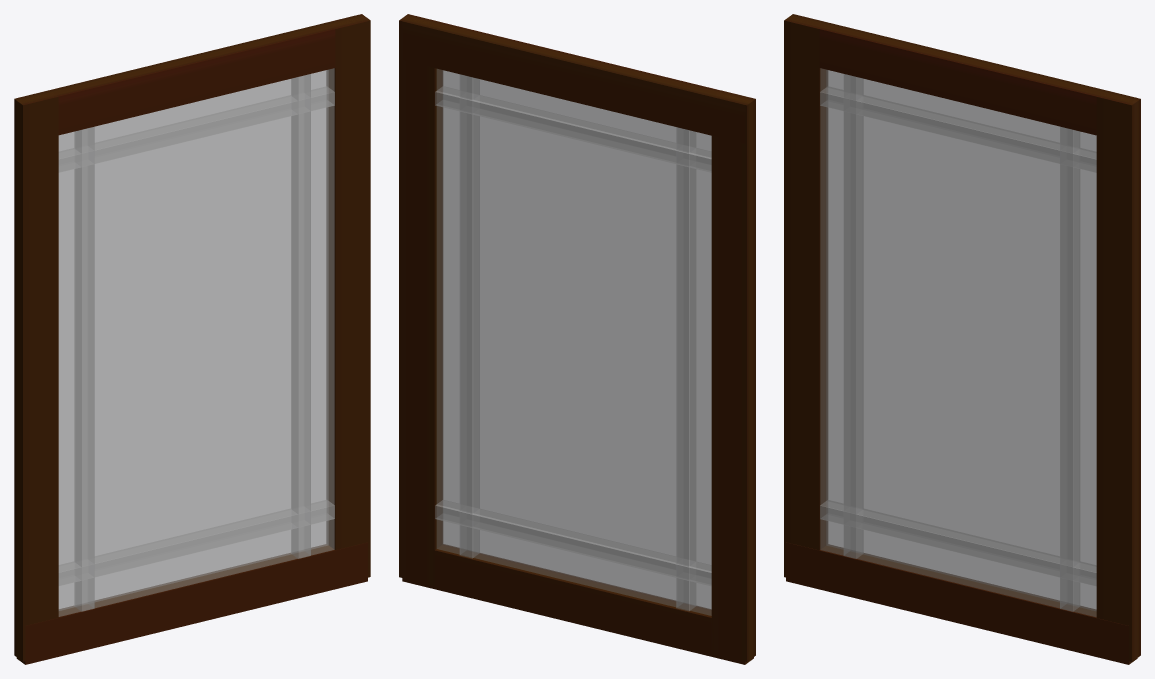
The model's file is sweethome3d-contributions-window-frosted-glass-268.glb.
The picture shows the model from 3 angles, left to right: view 1: azimuth 30°, elevation 25°; view 2: azimuth 150°, elevation 25°; view 3: azimuth 330°, elevation 25°; orthographic projection.
Parts seen in each view (by area): view 1: sweethome3d_window_pane, Cube_5, Cube_5_1, Cube_4_1, Cube_4, sweethome3d_window_pane_1, sweethome3d_window_pane_2, sweethome3d_window_pane_4, sweethome3d_window_pane_3; view 2: sweethome3d_window_pane, Cube_5, Cube_5_1, Cube_4, Cube_4_1, sweethome3d_window_pane_2, sweethome3d_window_pane_1, sweethome3d_window_pane_3, sweethome3d_window_pane_4; view 3: sweethome3d_window_pane, Cube_5_1, Cube_5, Cube_4_1, Cube_4, sweethome3d_window_pane_2, sweethome3d_window_pane_1, sweethome3d_window_pane_4, sweethome3d_window_pane_3.
Boxes of the visible parts, x1,y1,x2,y2 form: sweethome3d_window_pane: (58, 68, 334, 616); Cube_5: (14, 91, 58, 661); Cube_5_1: (326, 14, 370, 577); Cube_4_1: (16, 542, 367, 664); Cube_4: (16, 15, 366, 135); sweethome3d_window_pane_1: (75, 126, 94, 611); sweethome3d_window_pane_2: (291, 74, 310, 558); sweethome3d_window_pane_4: (58, 500, 334, 585); sweethome3d_window_pane_3: (58, 87, 334, 172); sweethome3d_window_pane: (436, 69, 711, 615); Cube_5: (711, 90, 755, 661); Cube_5_1: (399, 14, 442, 585); Cube_4: (402, 15, 751, 143); Cube_4_1: (402, 544, 753, 664); sweethome3d_window_pane_2: (459, 74, 479, 558); sweethome3d_window_pane_1: (676, 127, 695, 611); sweethome3d_window_pane_3: (435, 86, 711, 172); sweethome3d_window_pane_4: (435, 500, 711, 586); sweethome3d_window_pane: (820, 68, 1096, 616); Cube_5_1: (1096, 90, 1140, 661); Cube_5: (784, 14, 827, 577); Cube_4_1: (786, 542, 1137, 664); Cube_4: (786, 14, 1136, 135); sweethome3d_window_pane_2: (1060, 126, 1079, 611); sweethome3d_window_pane_1: (843, 74, 862, 558); sweethome3d_window_pane_4: (820, 500, 1096, 586); sweethome3d_window_pane_3: (820, 87, 1096, 172).
Bounding box in the file's own units: 2.99 × 4.6 × 0.1361.
Materials: 3 (1 with a texture image).
